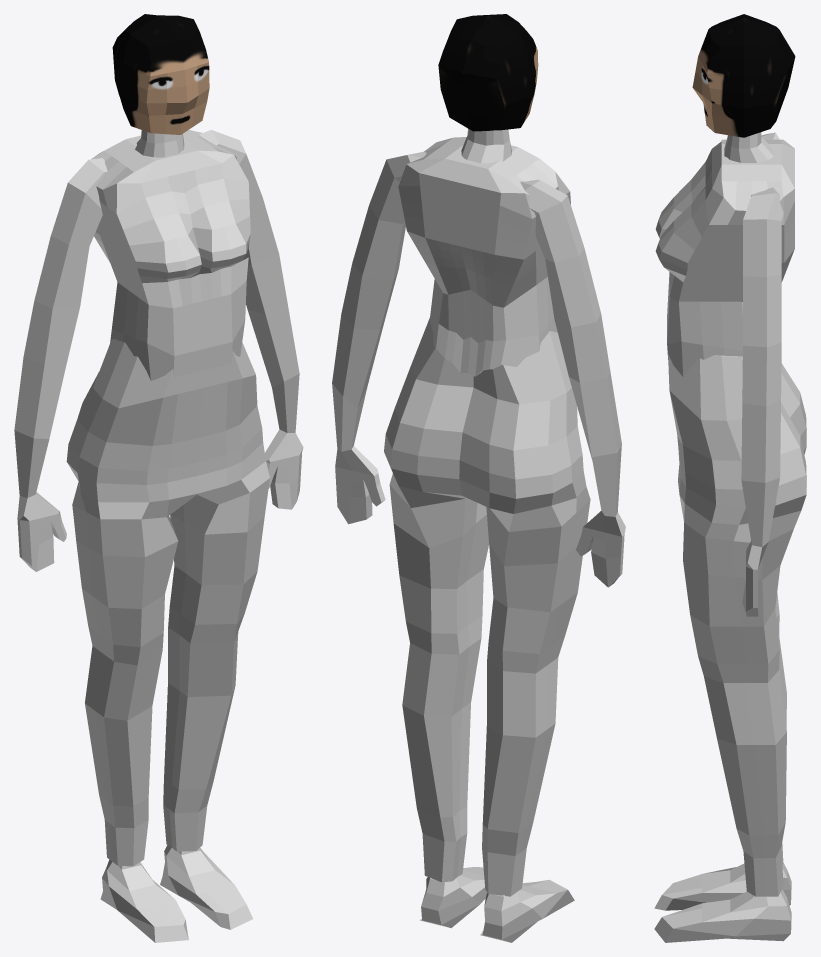
The model's file is GameModel.glb.
3 views of the same model, side by side, from view 1: azimuth 30°, elevation 25°; view 2: azimuth 150°, elevation 25°; view 3: azimuth 270°, elevation 25° (orthographic).
Parts seen in each view (by area): view 1: Waist And Legs.002, Torso.002, Arms, Head, Feet, Neck.002; view 2: Waist And Legs.002, Arms, Torso.002, Head, Feet, Neck.002; view 3: Waist And Legs.002, Torso.002, Arms, Head, Feet, Neck.002.
Part boxes in pixels (<box>): Waist And Legs.002: <box>66,339,269,866</box>; Torso.002: <box>91,130,250,380</box>; Arms: <box>14,130,303,571</box>; Head: <box>112,14,209,134</box>; Feet: <box>100,845,252,942</box>; Neck.002: <box>135,130,184,157</box>; Waist And Legs.002: <box>384,318,590,896</box>; Arms: <box>332,152,625,587</box>; Torso.002: <box>398,137,570,376</box>; Head: <box>438,14,538,131</box>; Feet: <box>420,867,574,942</box>; Neck.002: <box>461,128,512,163</box>; Waist And Legs.002: <box>668,354,806,896</box>; Torso.002: <box>655,139,794,376</box>; Arms: <box>741,132,783,616</box>; Head: <box>692,14,795,137</box>; Feet: <box>654,863,791,942</box>; Neck.002: <box>724,132,773,162</box>.
Bounding box in the file's own units: 1.28 × 3.85 × 0.5912.
Materials: 1 (1 with a texture image).
